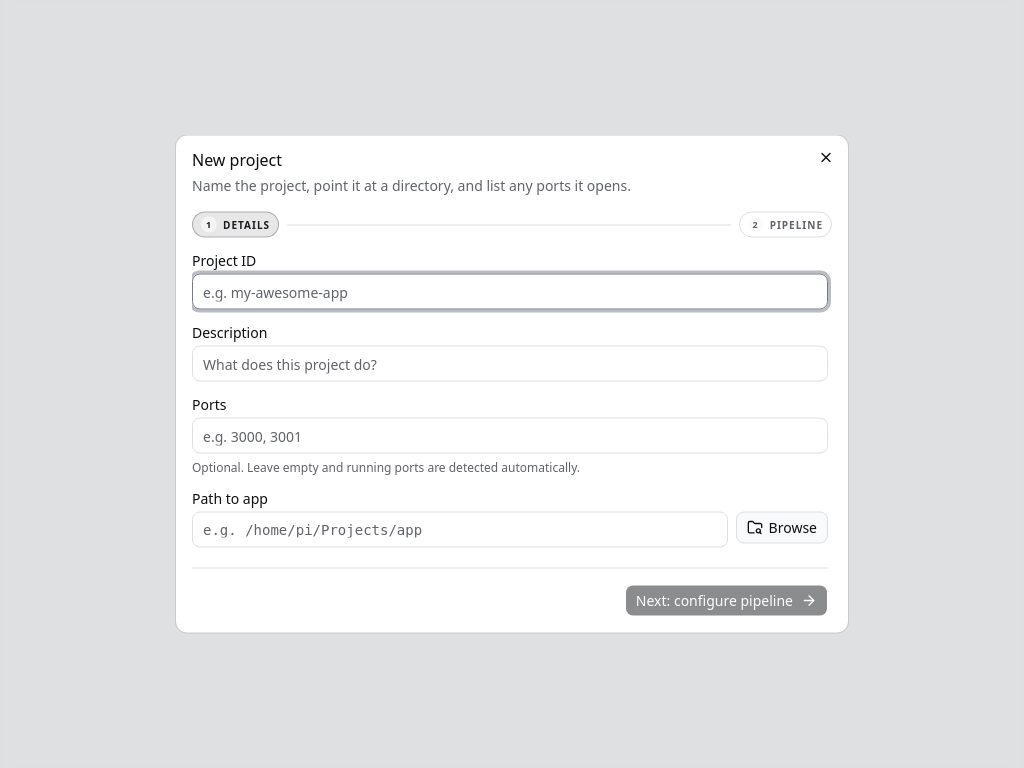
Test case: CreateProjectDialog pipeline step › re-enables save after adding a step back to an empty pipeline
Type "demo" into the field labelled "Project ID" at (510, 292), box top-left (192, 274), bottom-right (828, 310)
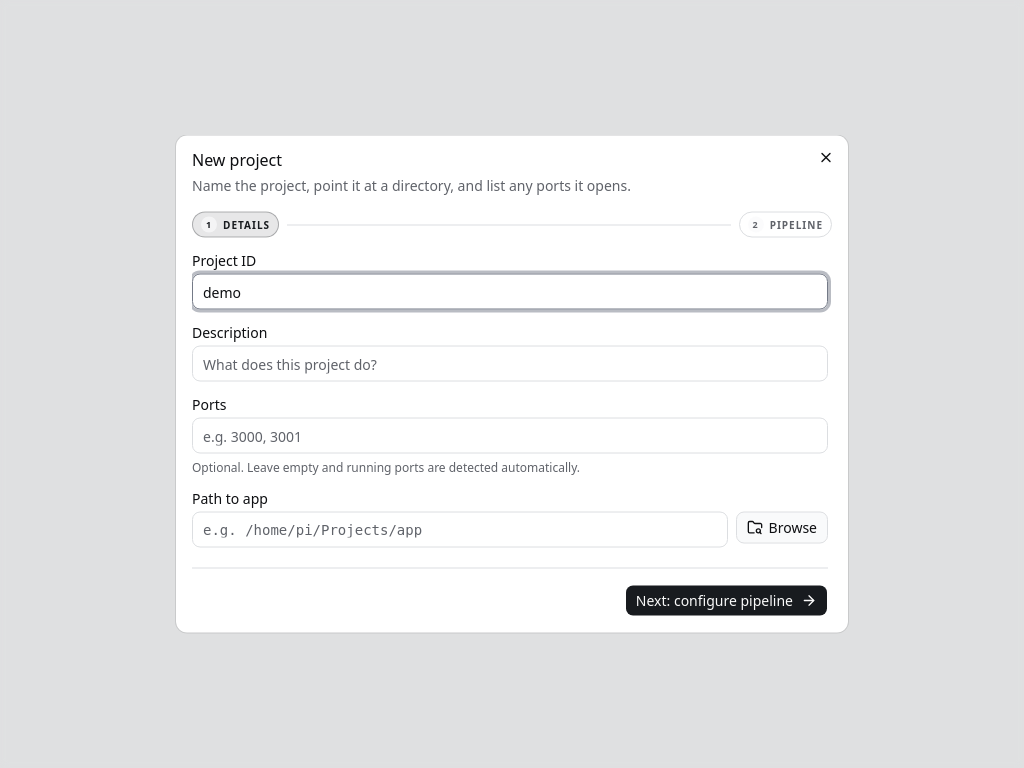
Click the button "Next: configure pipeline" at (726, 600), box top-left (625, 584), bottom-right (828, 616)
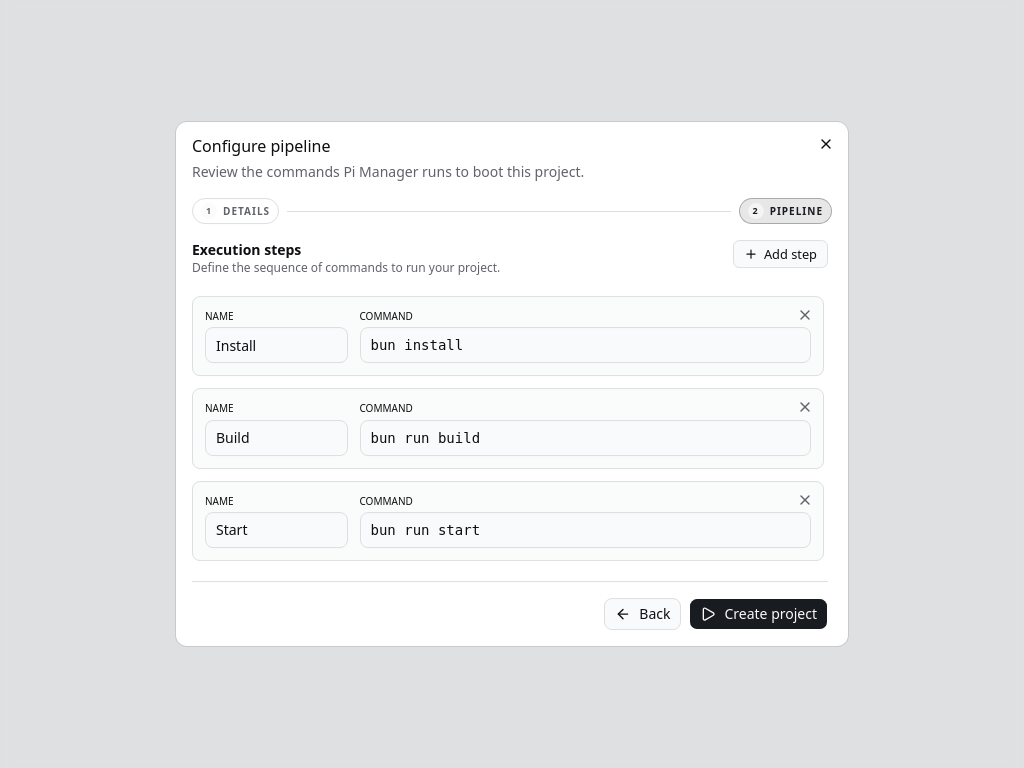
Check: the heading "Configure pipeline" is shown, box top-left (192, 135), bottom-right (330, 157)
Click the button named "Remove step 1" at (805, 315), box top-left (791, 301), bottom-right (819, 329)
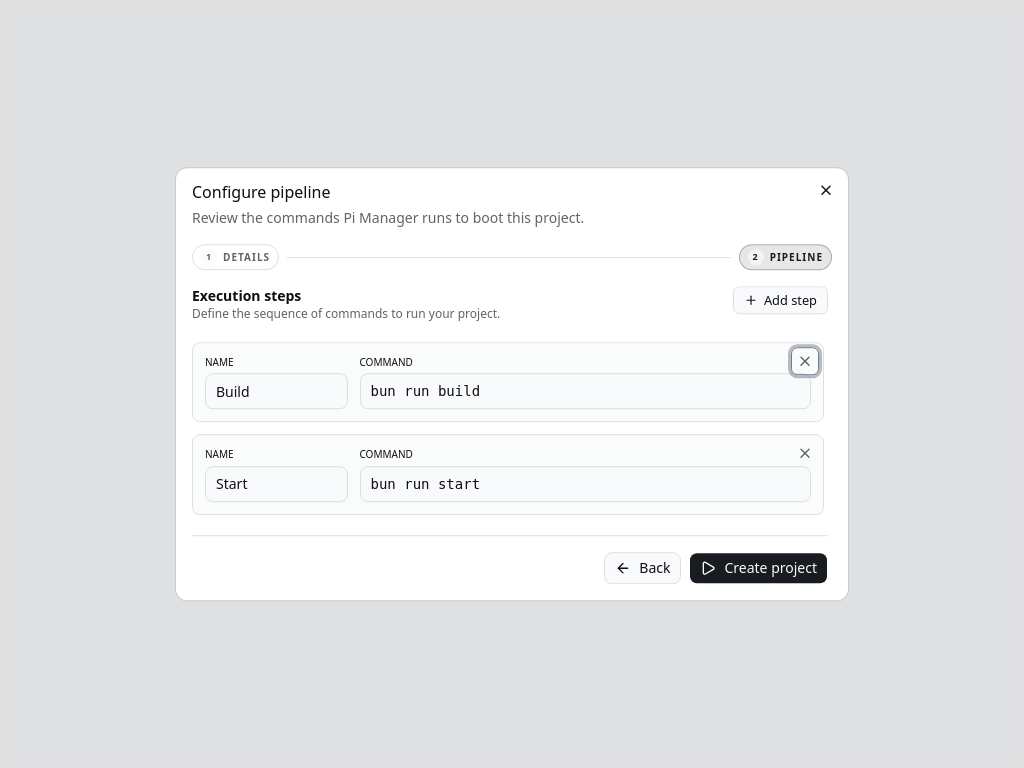
Click the button named "Remove step 1" at (805, 361), box top-left (791, 347), bottom-right (819, 375)
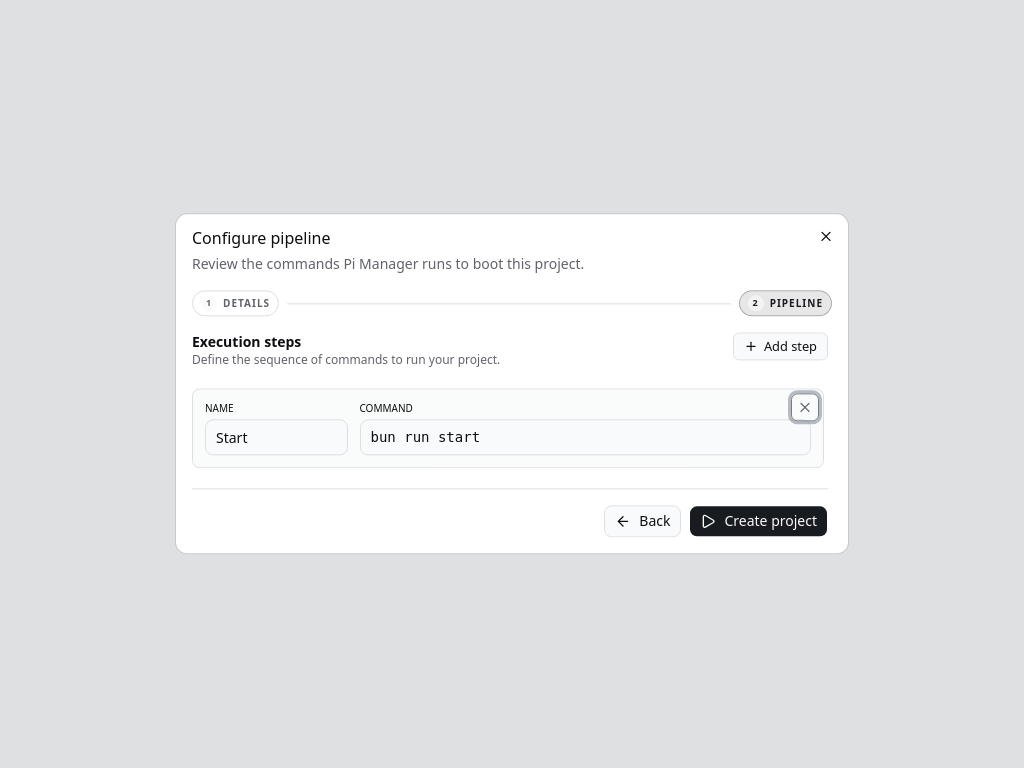
Click the button named "Remove step 1" at (805, 407), box top-left (791, 393), bottom-right (819, 421)
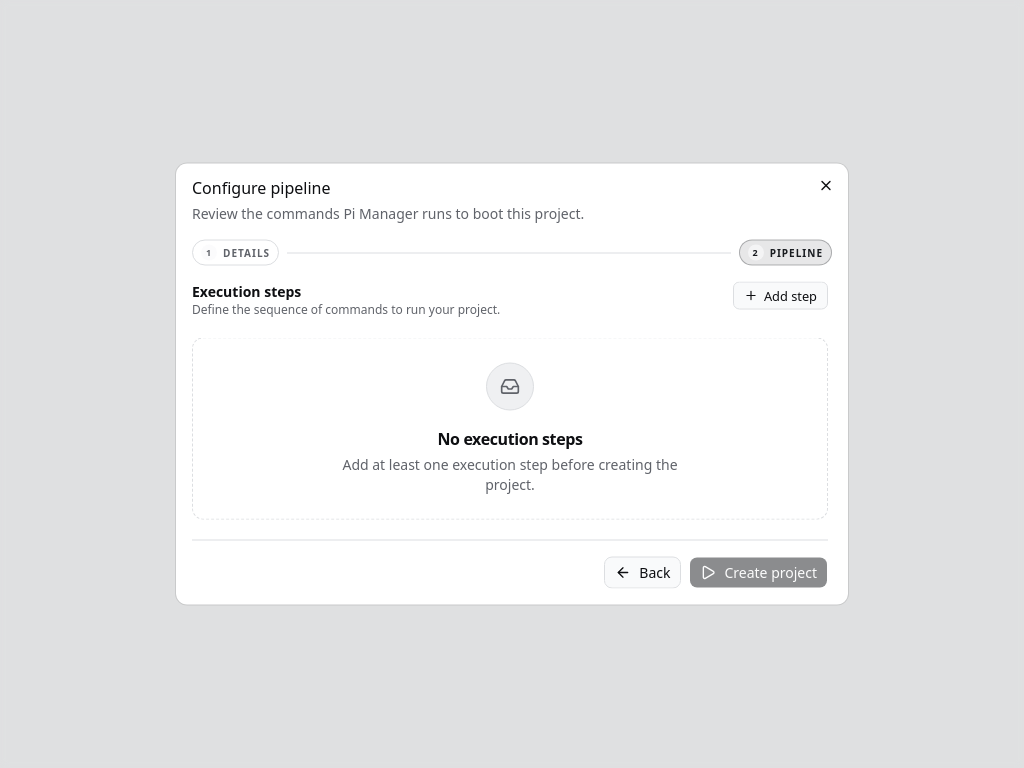
Check: the button "Create project" is disabled, box top-left (689, 556), bottom-right (828, 588)
Click the button "Add step" at (780, 296), box top-left (733, 282), bottom-right (828, 310)
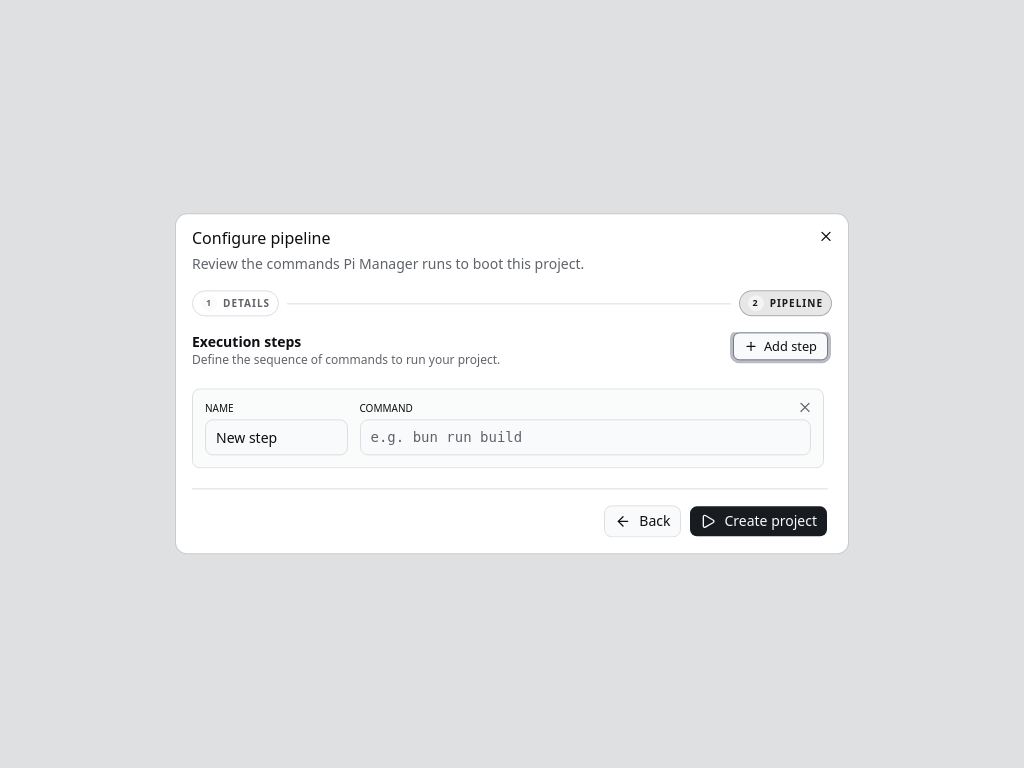
Check: the button "Create project" is enabled, box top-left (689, 506), bottom-right (828, 538)
